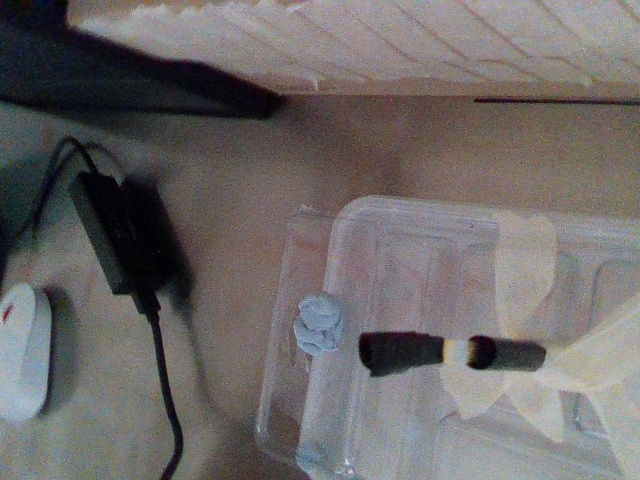test_strip: (356, 330, 474, 377)
